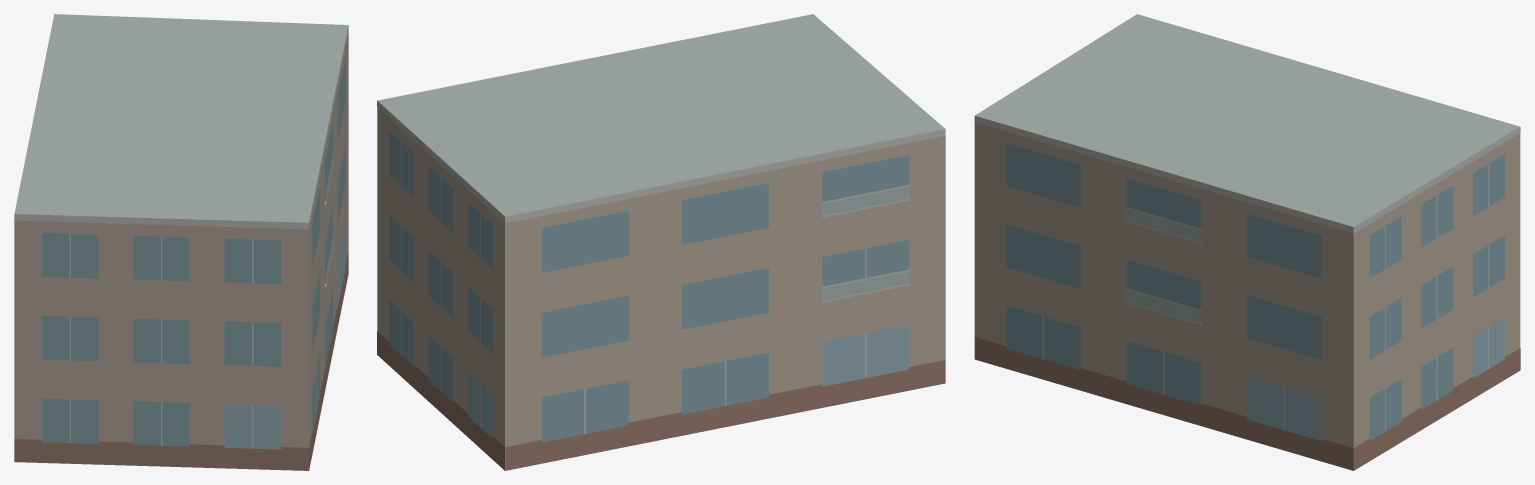
File: survey-upis-32707489.glb
3 renders of one model, left to right at view 1: azimuth 30°, elevation 25°; view 2: azimuth 150°, elevation 25°; view 3: azimuth 270°, elevation 25°, orthographic. The views are drawn at different scales.
Parts seen in each view (by area): view 1: survey-upis-32707489.tmp; view 2: survey-upis-32707489.tmp; view 3: survey-upis-32707489.tmp.
Part boxes in pixels (left/top/right/bottom): survey-upis-32707489.tmp: left=14, top=14, right=348, bottom=470; survey-upis-32707489.tmp: left=377, top=14, right=945, bottom=470; survey-upis-32707489.tmp: left=974, top=14, right=1520, bottom=470.
Size of the model in its own units: 17.17 by 9.15 by 18.58.
